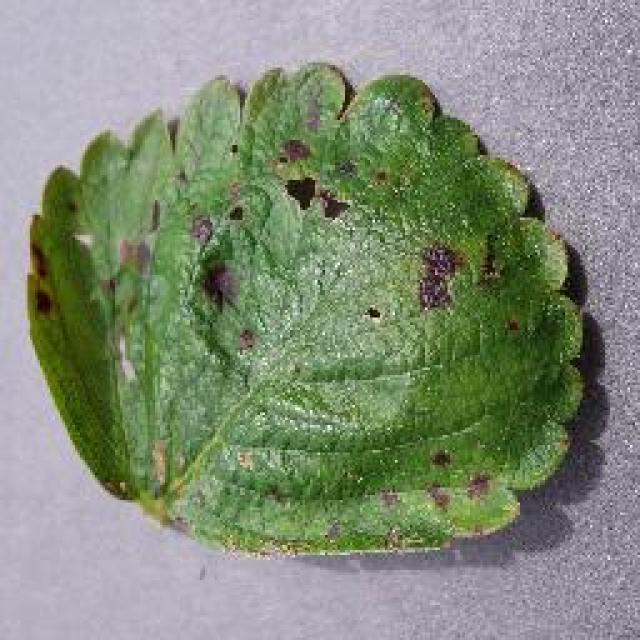Strawberry leaf scorch: (52, 27, 550, 405)
